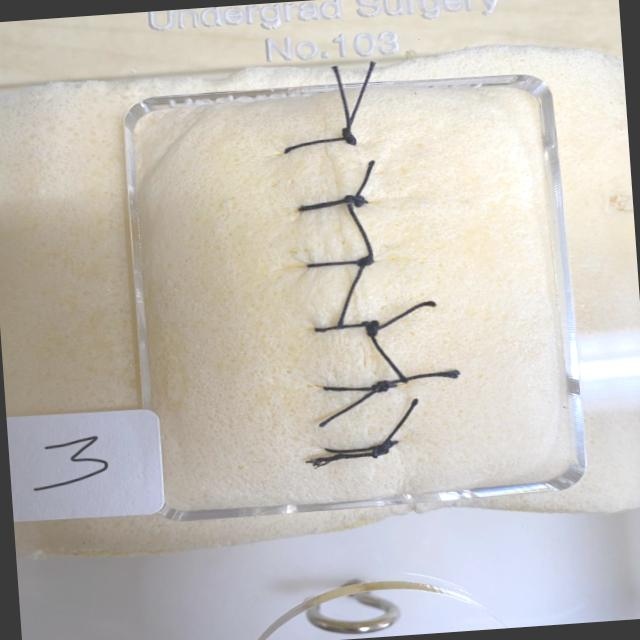knot: (371, 440, 393, 458), (361, 320, 378, 336), (344, 195, 367, 206), (342, 128, 356, 144), (371, 381, 390, 392), (357, 257, 373, 266)
leftover: (316, 386, 385, 429), (363, 323, 408, 384), (345, 59, 376, 139), (335, 258, 367, 328), (378, 395, 419, 449), (363, 300, 434, 329), (345, 201, 374, 262), (302, 444, 388, 464), (372, 371, 462, 390), (331, 62, 350, 139), (353, 157, 375, 196), (297, 198, 354, 209)
stitch: (281, 133, 357, 155), (294, 195, 366, 212), (303, 257, 376, 268), (311, 321, 380, 331), (320, 444, 394, 453), (318, 385, 391, 392)
wound: (319, 110, 375, 480)
